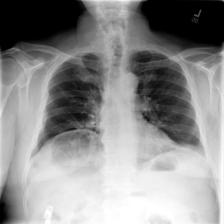normal: (23, 45, 209, 181)
